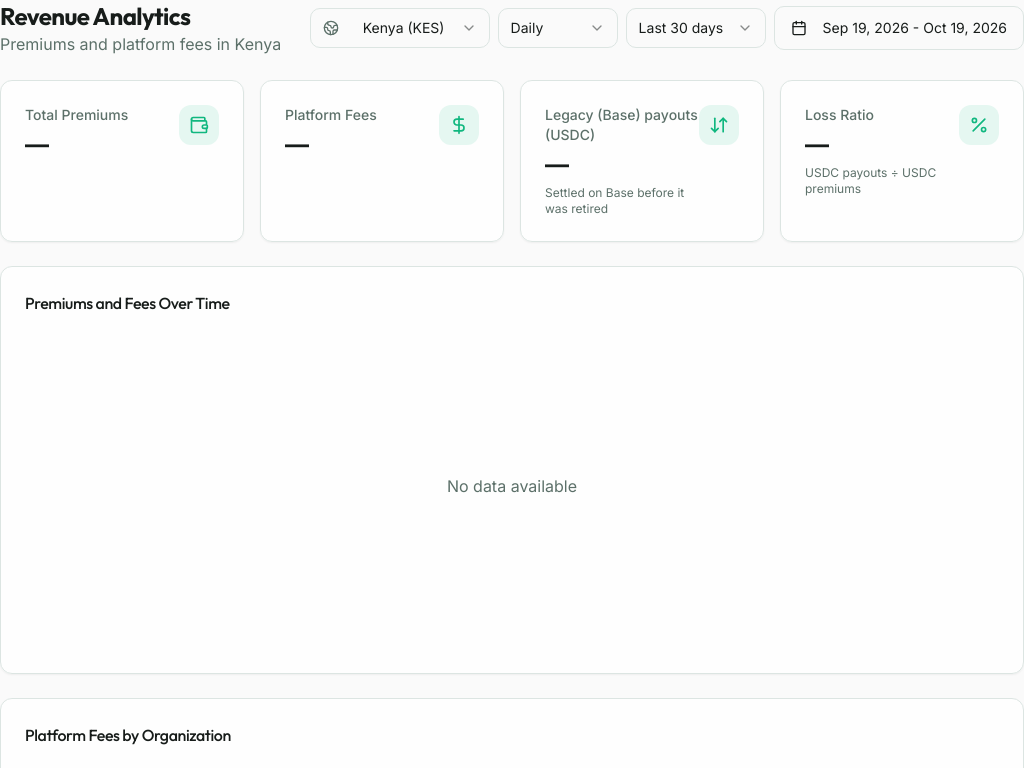
Test case: RevenueAnalyticsPage › does not offer "All markets" — revenue is one currency at a time
Click the dropdown named "select market".
click(400, 28)  # box [310,8,490,48]
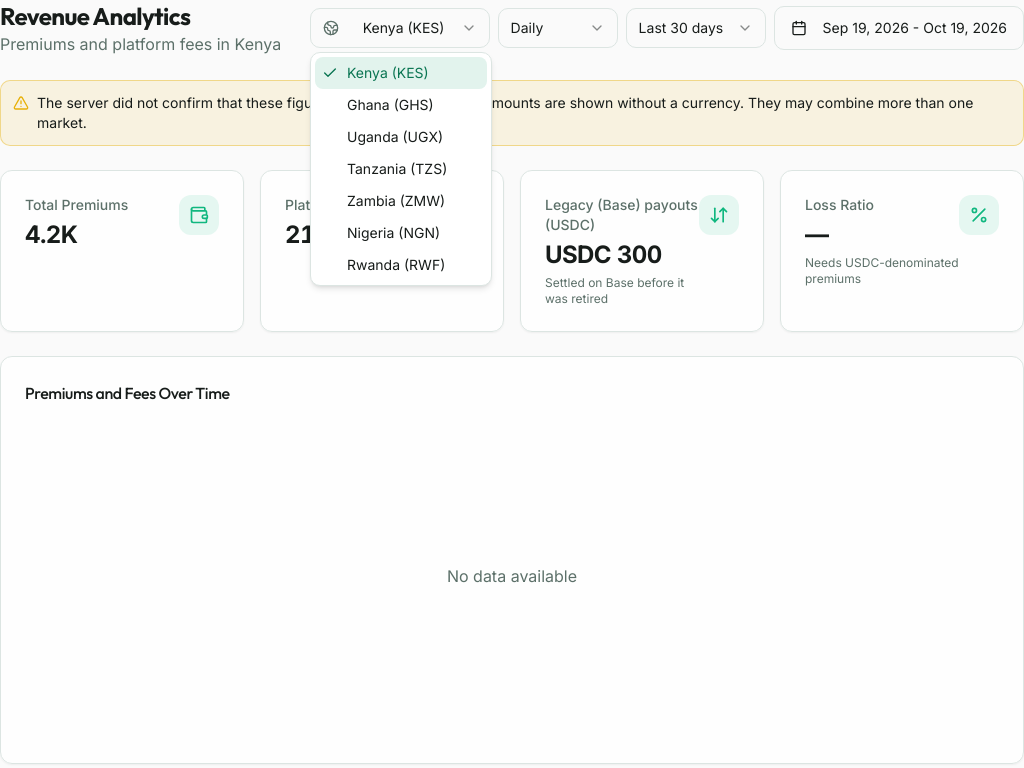
Result: the option "Ghana (GHS)" is shown at [347,96,434,113]
